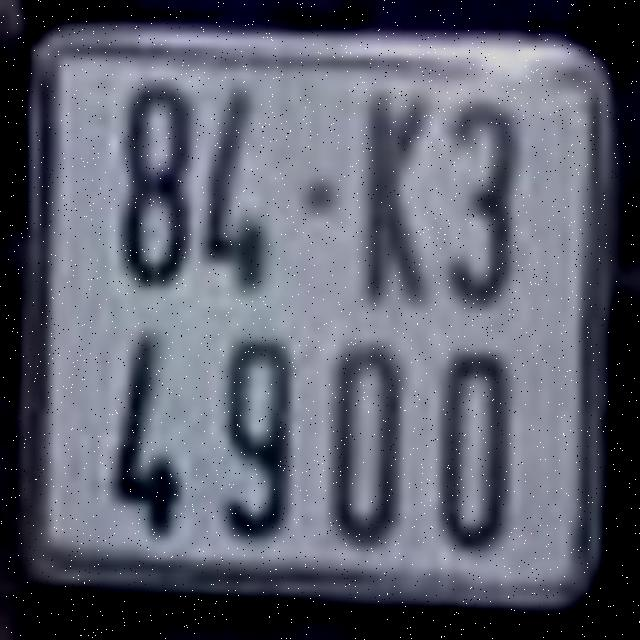0: (440, 349, 510, 550), (333, 342, 401, 546)
3: (446, 98, 516, 308)
4: (111, 330, 183, 540), (205, 88, 267, 295)
8: (124, 85, 188, 288)
9: (222, 335, 292, 538)
K: (366, 89, 428, 308)
